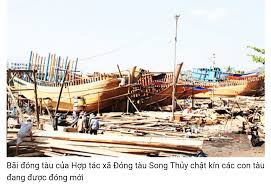tau_dansu: (17, 61, 136, 110), (182, 63, 257, 95)
